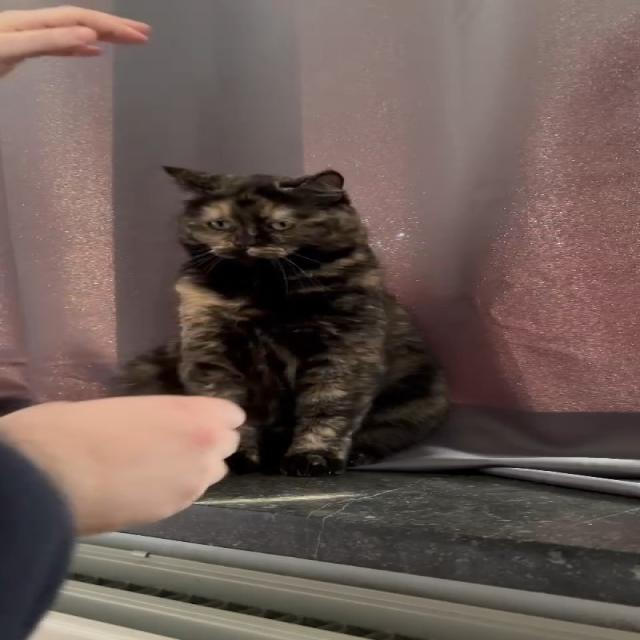authorized: (110, 164, 450, 477)
